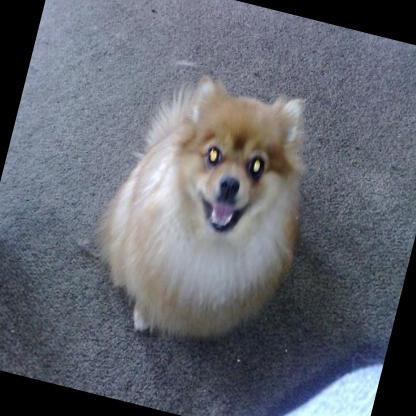Pomeranian: (80, 59, 328, 361)
